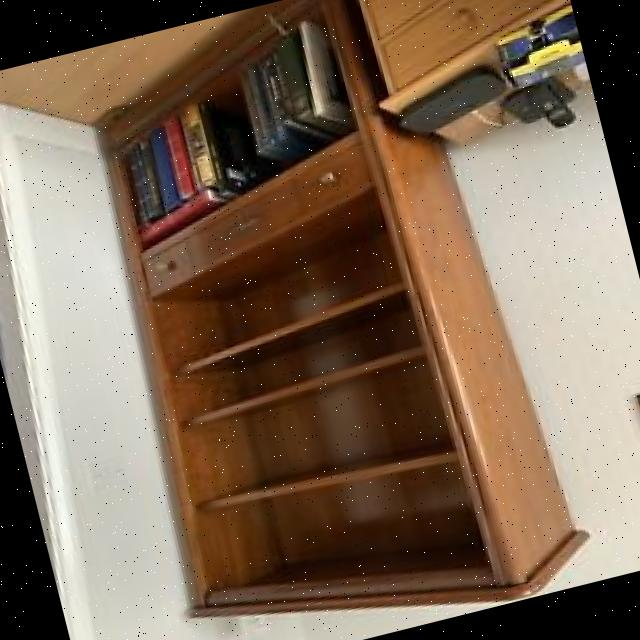Shelf: (34, 0, 601, 640)
